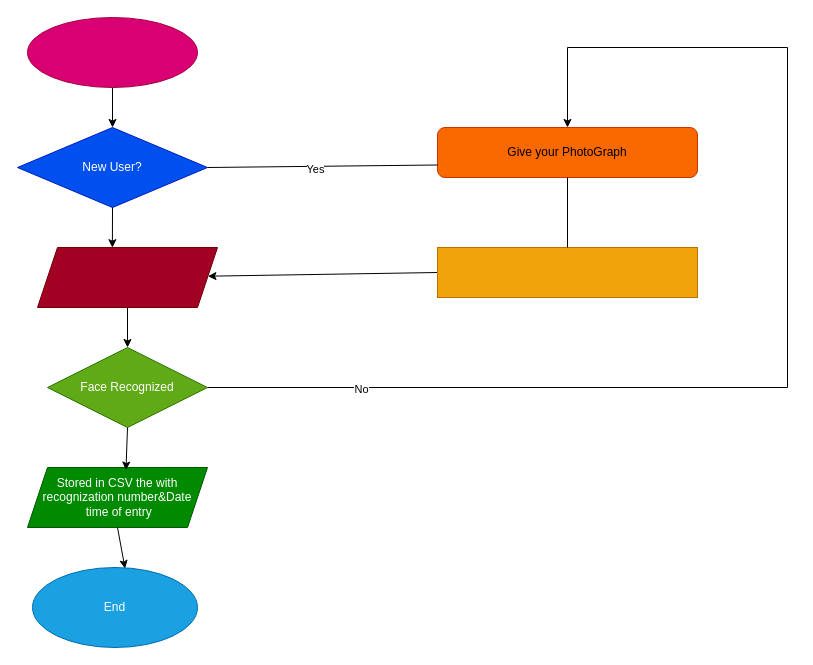
Some shapes in this 813 by 665 pixel diagram are drawn without their labels. Each missing label, with the centre of its shape:
"Recognize the face" goes at (127,277).
"Start" goes at (112,52).
"Store the face data in folder on your name" goes at (567,272).
